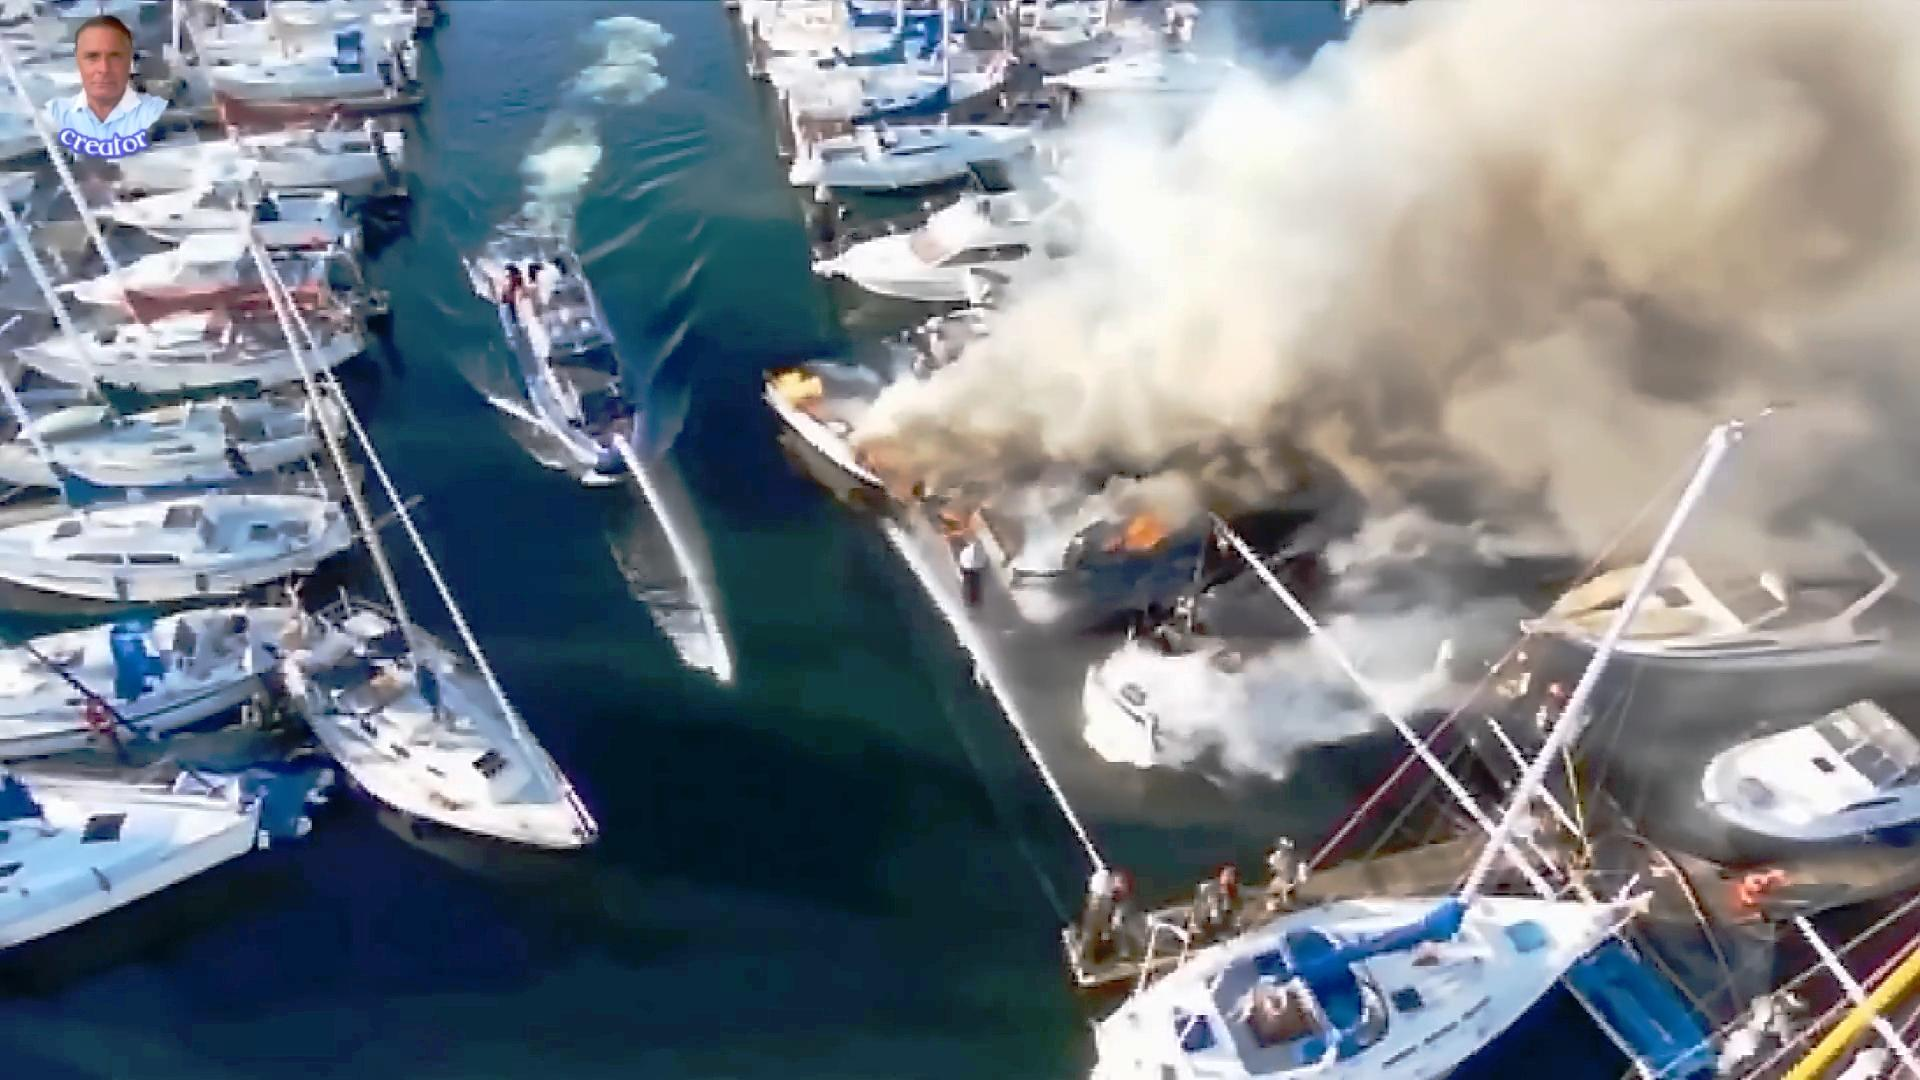smoke: (1367, 0, 1903, 418), (926, 127, 1511, 458)
